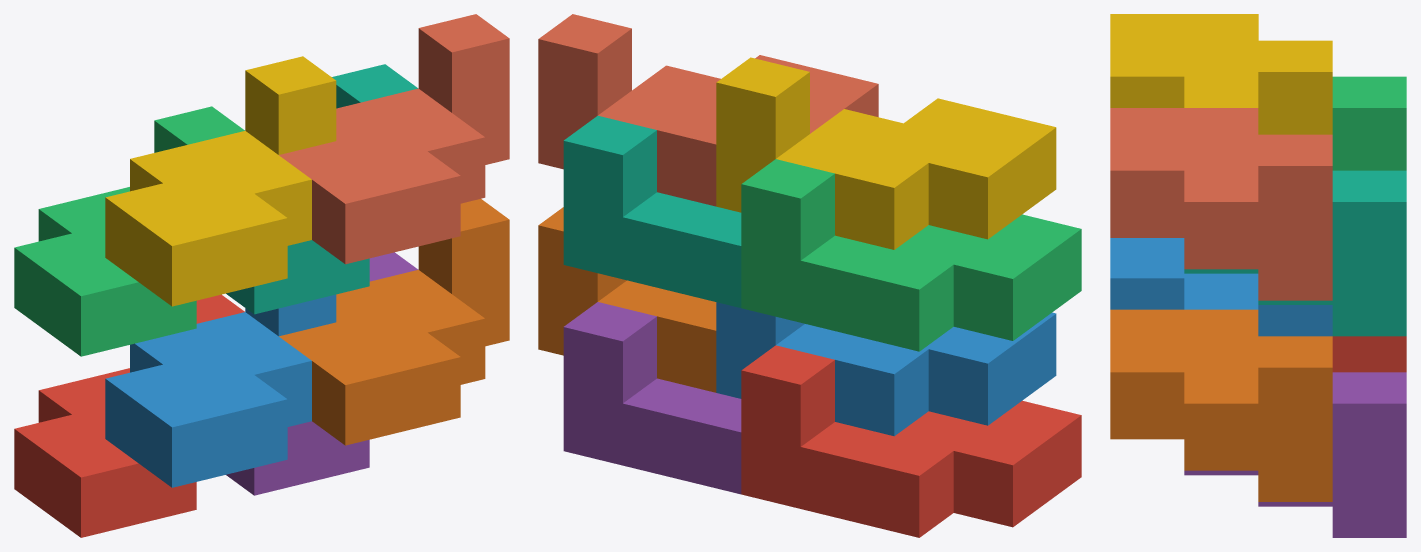
Rendered from tiling.obj.
3 renders of one model, left to right at view 1: azimuth 30°, elevation 25°; view 2: azimuth 150°, elevation 25°; view 3: azimuth 270°, elevation 25°, orthographic. The views are drawn at different scales.
Visible parts, largest first — view 1: copy_1_domain_4, copy_1_domain_8, copy_1_domain_6, copy_1_domain_2, copy_1_domain_3, copy_1_domain_1, copy_1_domain_7, copy_1_domain_5; view 2: copy_1_domain_1, copy_1_domain_3, copy_1_domain_4, copy_1_domain_2, copy_1_domain_8, copy_1_domain_5, copy_1_domain_7, copy_1_domain_6; view 3: copy_1_domain_8, copy_1_domain_6, copy_1_domain_4, copy_1_domain_5, copy_1_domain_7, copy_1_domain_2, copy_1_domain_3, copy_1_domain_1.
Part boxes in pixels (x1=…): copy_1_domain_4: x1=105, y1=56, x2=336, y2=306; copy_1_domain_8: x1=279, y1=14, x2=509, y2=264; copy_1_domain_6: x1=279, y1=199, x2=509, y2=445; copy_1_domain_2: x1=105, y1=294, x2=336, y2=487; copy_1_domain_3: x1=14, y1=106, x2=244, y2=356; copy_1_domain_1: x1=14, y1=294, x2=244, y2=537; copy_1_domain_7: x1=226, y1=64, x2=418, y2=314; copy_1_domain_5: x1=226, y1=252, x2=418, y2=495; copy_1_domain_1: x1=741, y1=345, x2=1081, y2=537; copy_1_domain_3: x1=741, y1=159, x2=1081, y2=351; copy_1_domain_4: x1=716, y1=57, x2=1056, y2=249; copy_1_domain_2: x1=716, y1=302, x2=1056, y2=436; copy_1_domain_8: x1=538, y1=14, x2=878, y2=206; copy_1_domain_5: x1=563, y1=302, x2=741, y2=494; copy_1_domain_7: x1=563, y1=115, x2=741, y2=307; copy_1_domain_6: x1=538, y1=207, x2=716, y2=392; copy_1_domain_8: x1=1110, y1=108, x2=1332, y2=300; copy_1_domain_6: x1=1110, y1=309, x2=1332, y2=501; copy_1_domain_4: x1=1110, y1=14, x2=1332, y2=134; copy_1_domain_5: x1=1184, y1=372, x2=1406, y2=537; copy_1_domain_7: x1=1184, y1=170, x2=1406, y2=336; copy_1_domain_2: x1=1110, y1=238, x2=1332, y2=336; copy_1_domain_3: x1=1332, y1=76, x2=1406, y2=170; copy_1_domain_1: x1=1332, y1=336, x2=1406, y2=372.
Size of the model in its own units: 8 by 6 by 4.
